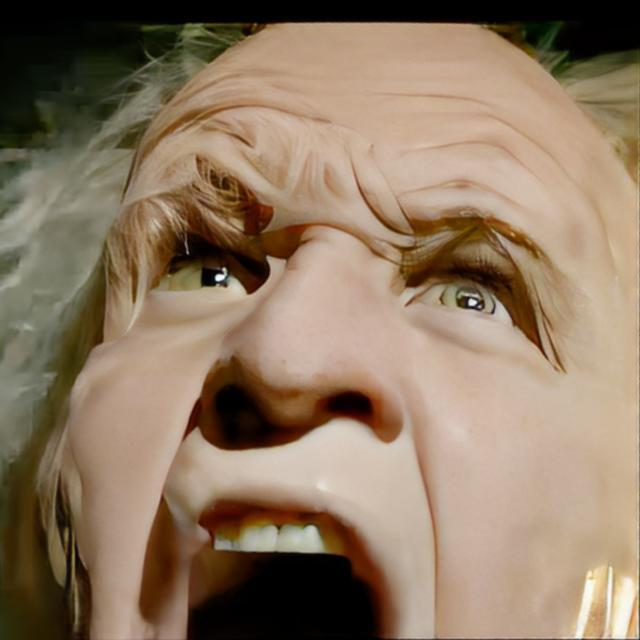anger: (60, 20, 639, 640)
